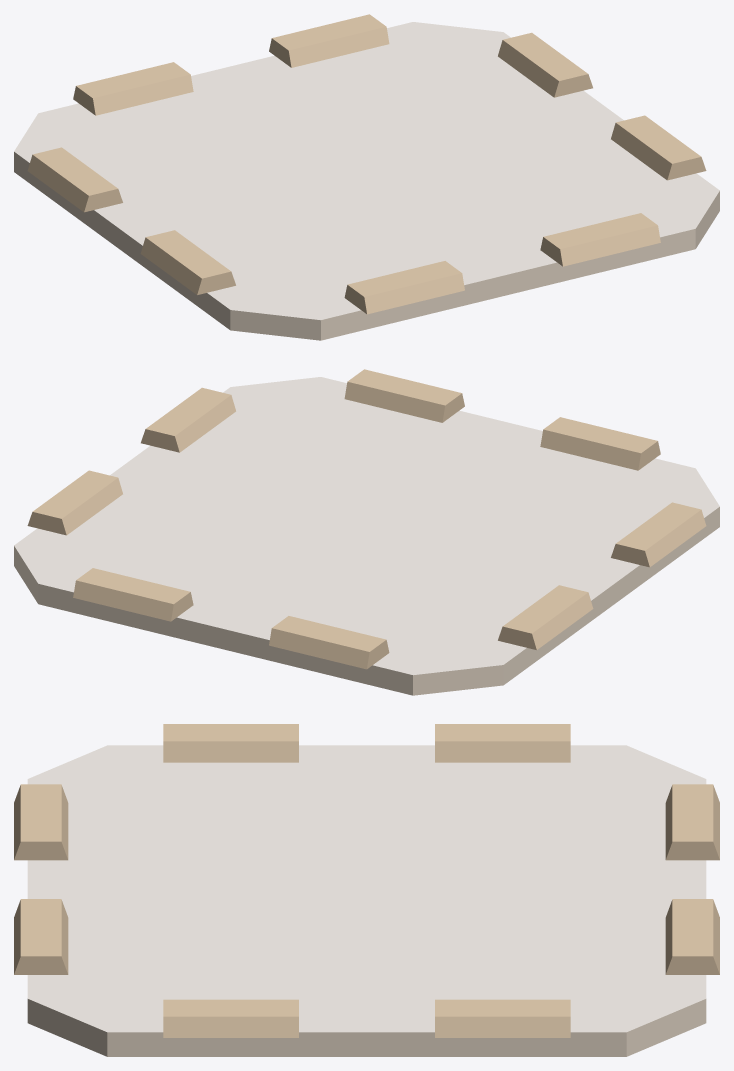
The model's file is ShackRoof.glb.
3 renders of one model, top to bottom at view 1: azimuth 30°, elevation 25°; view 2: azimuth 150°, elevation 25°; view 3: azimuth 270°, elevation 25°, orthographic. The views are drawn at different scales.
Parts seen in each view (by area): view 1: object1.457, object1.479, object1.491, object1.467, object1.485, object1.487, object1.465, object1.466, object1.486, object1.476, object1.477, object1.475 (+21 smaller); view 2: object1.459, object1.478, object1.491, object1.465, object1.485, object1.487, object1.466, object1.467, object1.486, object1.475, object1.476, object1.477 (+21 smaller); view 3: object1.463, object1.458, object1.460, object1.465, object1.466, object1.467, object1.475, object1.476, object1.477, object1.485, object1.486, object1.487 (+21 smaller).
Part boxes in pixels (x1,y1,x2,y2): object1.457: (207,269,361,340); object1.479: (403,221,557,306); object1.491: (94,186,247,271); object1.467: (444,156,598,220); object1.485: (135,121,289,185); object1.487: (248,203,402,268); object1.465: (331,73,485,138); object1.466: (388,114,541,179); object1.486: (192,162,345,227); object1.476: (290,138,443,203); object1.477: (347,180,500,244); object1.475: (234,97,387,161); object1.459: (372,624,526,695); object1.478: (176,576,330,661); object1.491: (486,541,639,626); object1.465: (135,511,289,575); object1.485: (331,558,485,623); object1.487: (444,476,598,540); object1.466: (192,469,345,534); object1.467: (248,428,402,493); object1.486: (388,517,541,582); object1.475: (233,535,386,599); object1.476: (290,493,443,558); object1.477: (346,452,499,516); object1.463: (299,975,434,1056); object1.458: (570,975,706,1056); object1.460: (27,975,163,1056); object1.465: (435,917,570,974); object1.466: (299,917,434,974); object1.467: (163,917,298,974); object1.475: (435,860,570,917); object1.476: (299,860,434,917); object1.477: (163,860,298,917); object1.485: (435,803,570,860); object1.486: (299,803,434,860); object1.487: (163,803,298,860).
Size of the model in its own units: 5.2 by 0.35 by 5.2.
